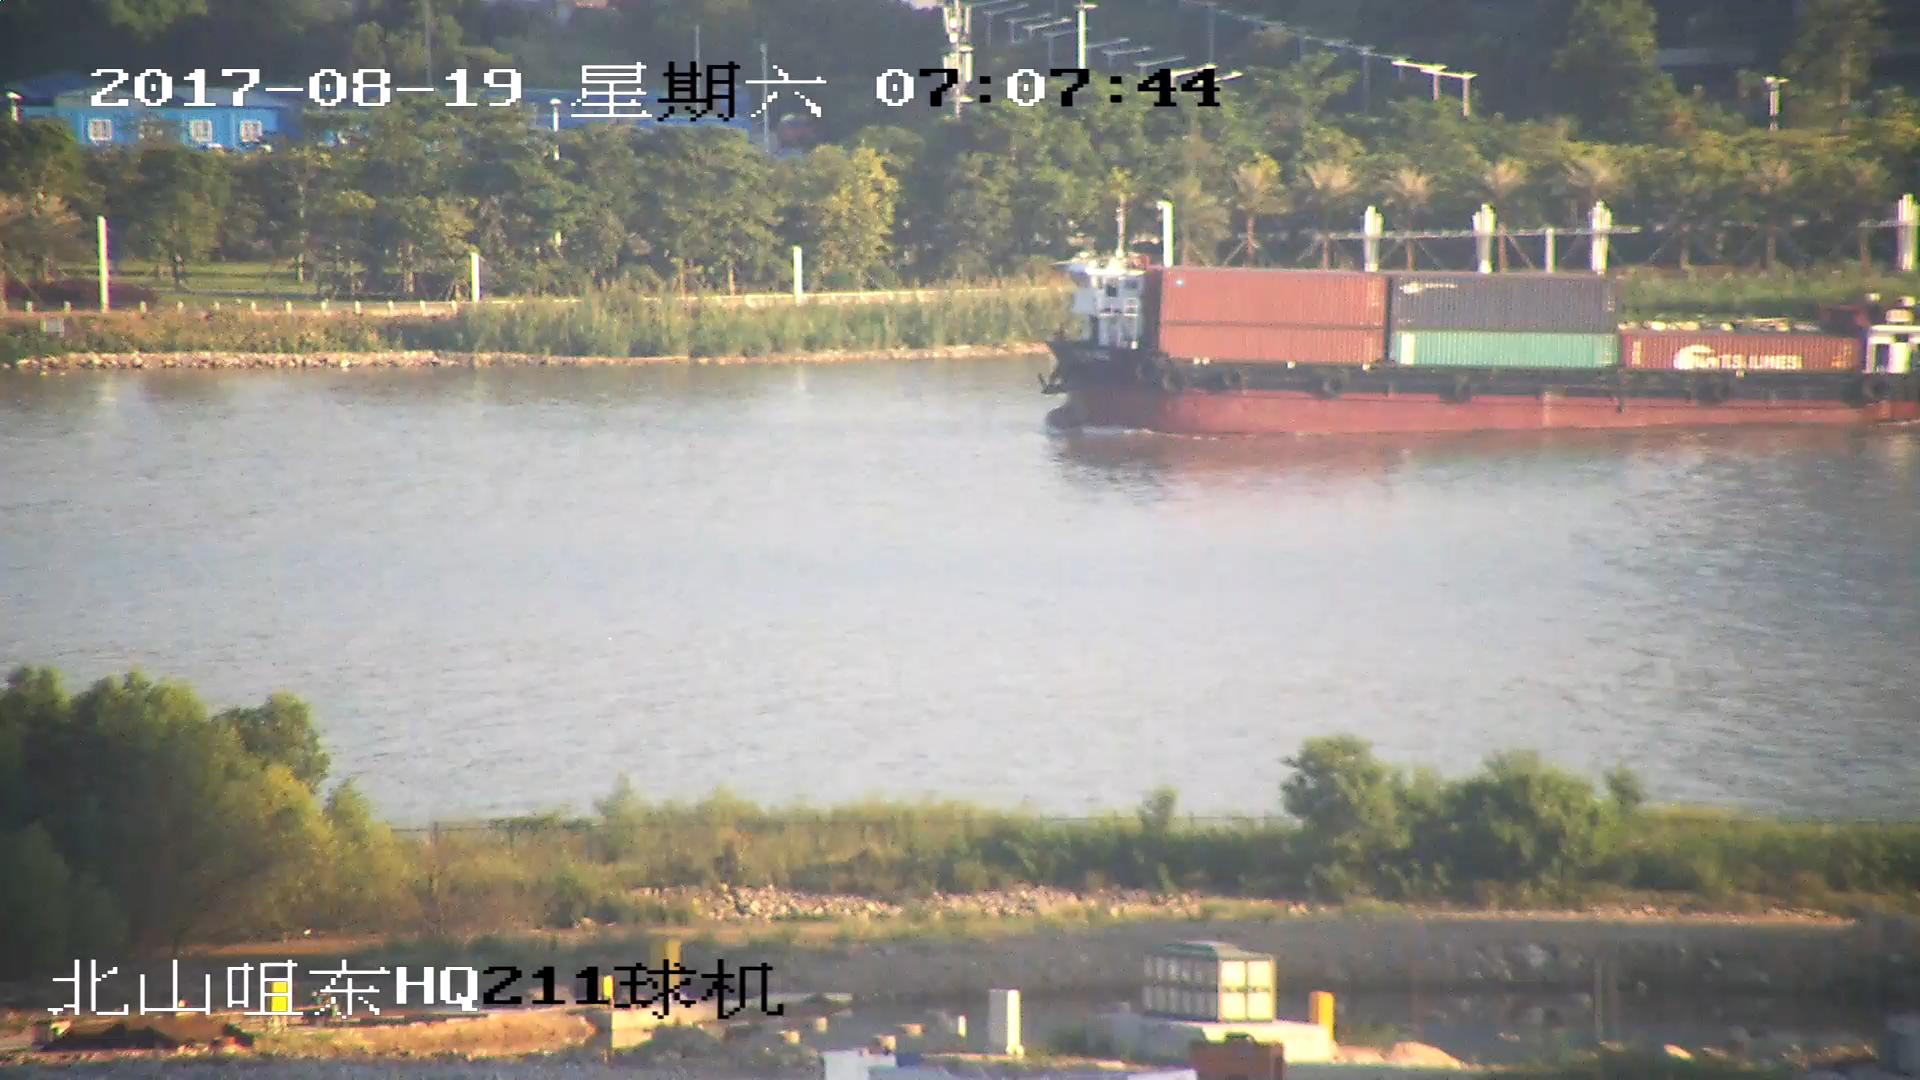container ship: (1034, 207, 1920, 440)
